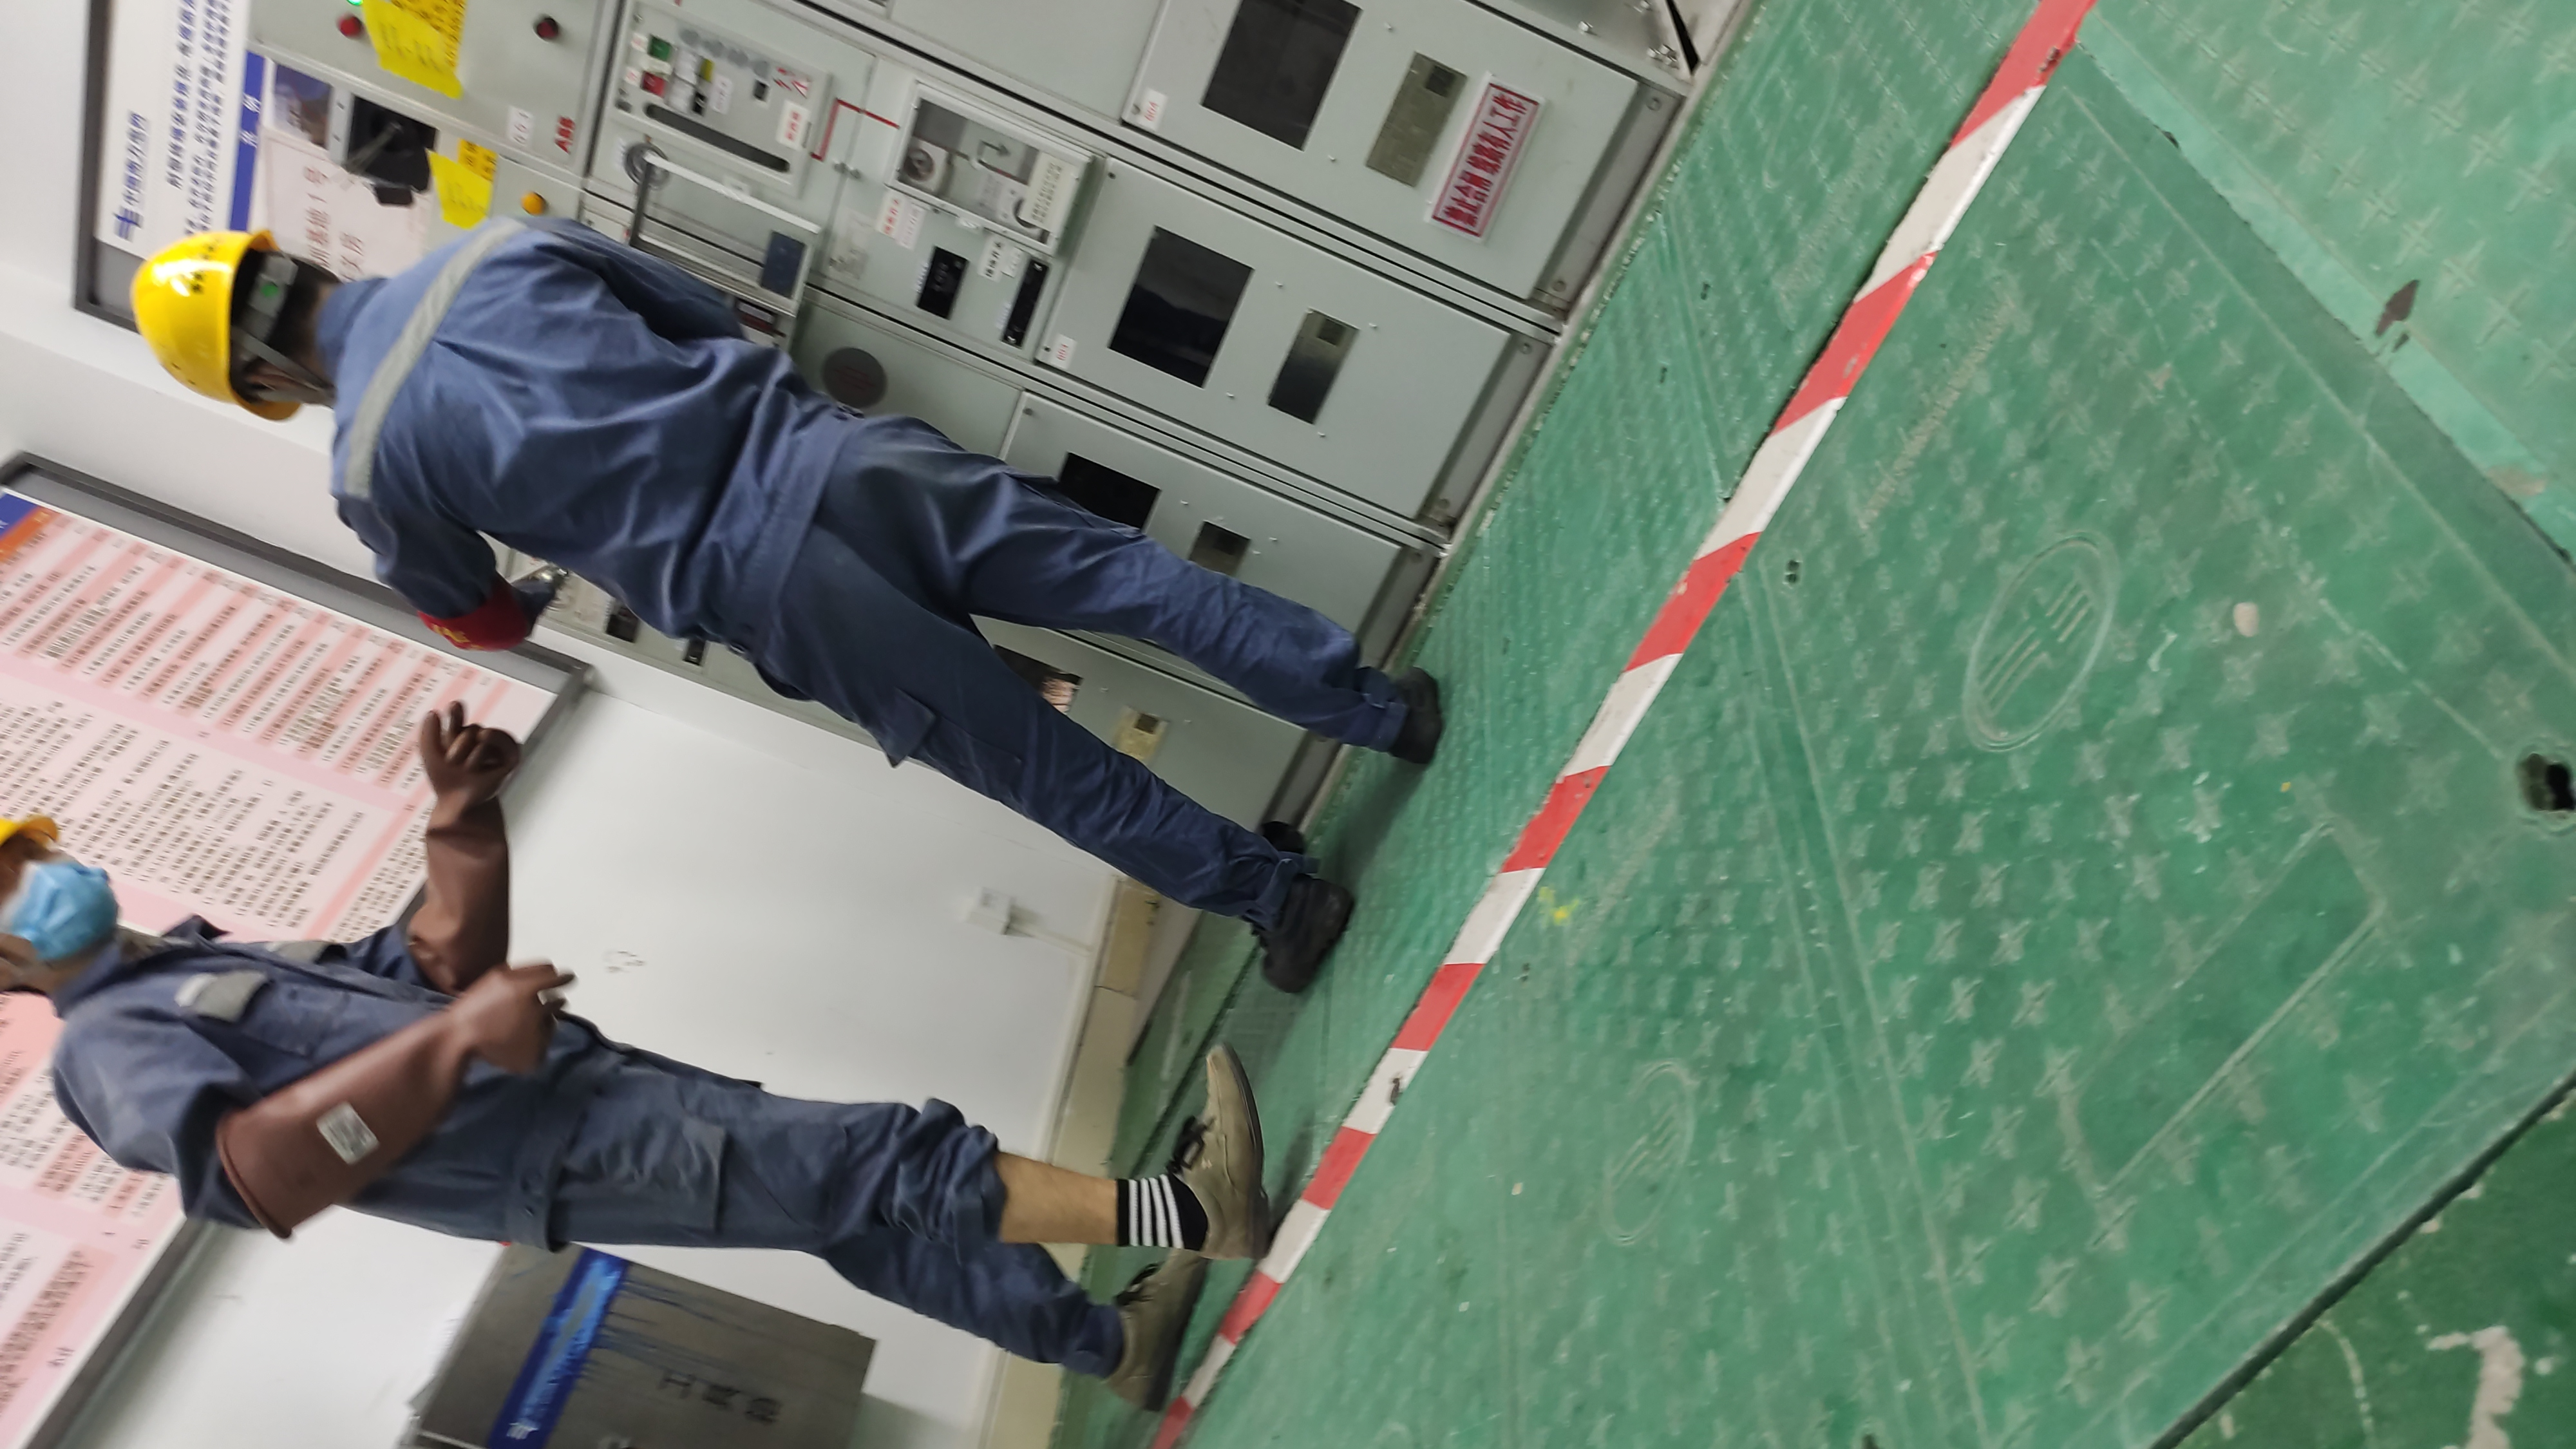badge: (419, 576, 538, 654)
downsuit: (786, 441, 1397, 927), (582, 1050, 1242, 1355)
halt: (130, 231, 321, 422), (2, 813, 131, 990)
longglove: (202, 952, 580, 1240), (397, 696, 526, 972)
person: (118, 198, 1399, 963), (1, 788, 1246, 1425)
upsuit: (327, 229, 808, 621), (56, 931, 540, 1244)
wrongbottom: (896, 1118, 1121, 1255)
